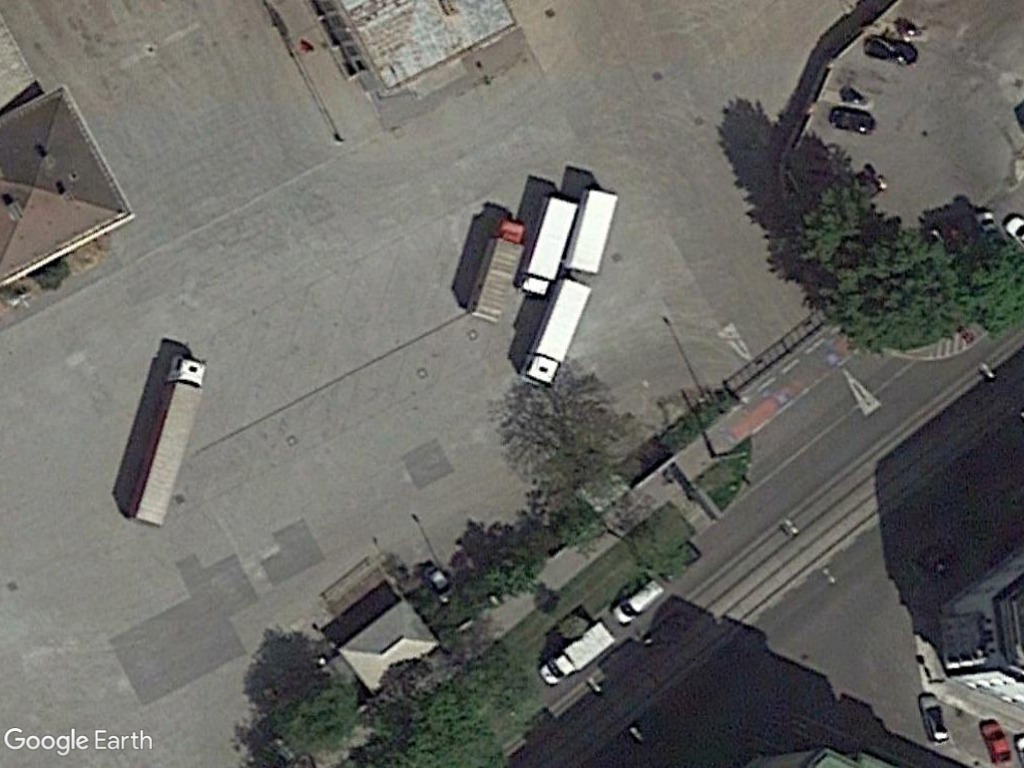car: (913, 686, 957, 750), (976, 717, 1013, 768)
longvehicle: (121, 349, 211, 533)
truck: (516, 275, 599, 389), (513, 191, 585, 301), (467, 215, 530, 327), (535, 618, 619, 694)
van: (606, 572, 672, 631)
